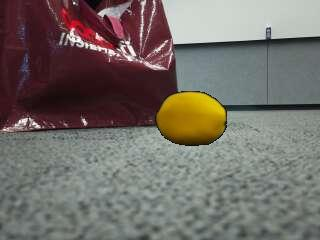lemon: (157, 93, 226, 146)
